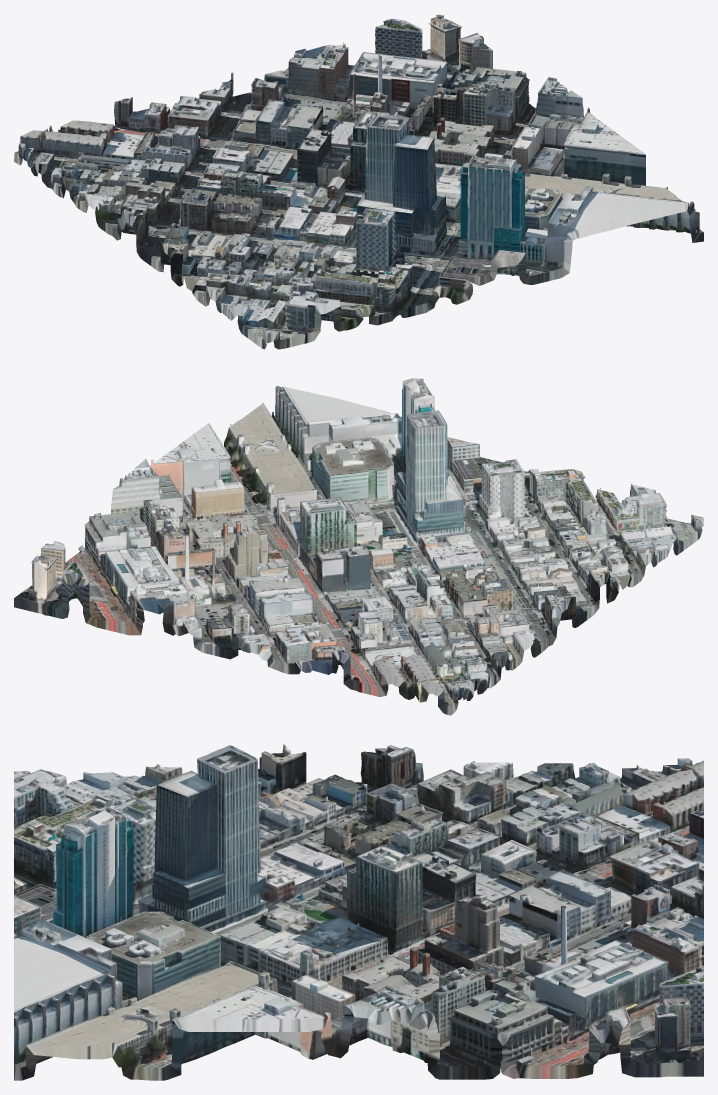
The model's file is z16-10484-25329-h0-yup-uvflip-v3-world.glb.
The picture shows the model from 3 angles, top to bottom: view 1: azimuth 30°, elevation 25°; view 2: azimuth 150°, elevation 25°; view 3: azimuth 270°, elevation 25°; orthographic projection. The views are drawn at different scales.
Bounding box in the file's own units: 483 × 132 × 485.
Materials: 1 (1 with a texture image).
